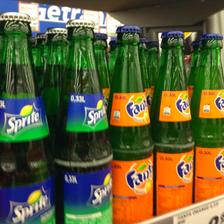Soda: (53, 18, 113, 222), (0, 10, 54, 222), (106, 25, 154, 224), (150, 29, 194, 214), (191, 32, 223, 202)
